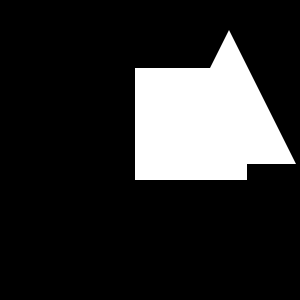circle: (135, 68, 247, 180)
triangle: (162, 30, 296, 164)
